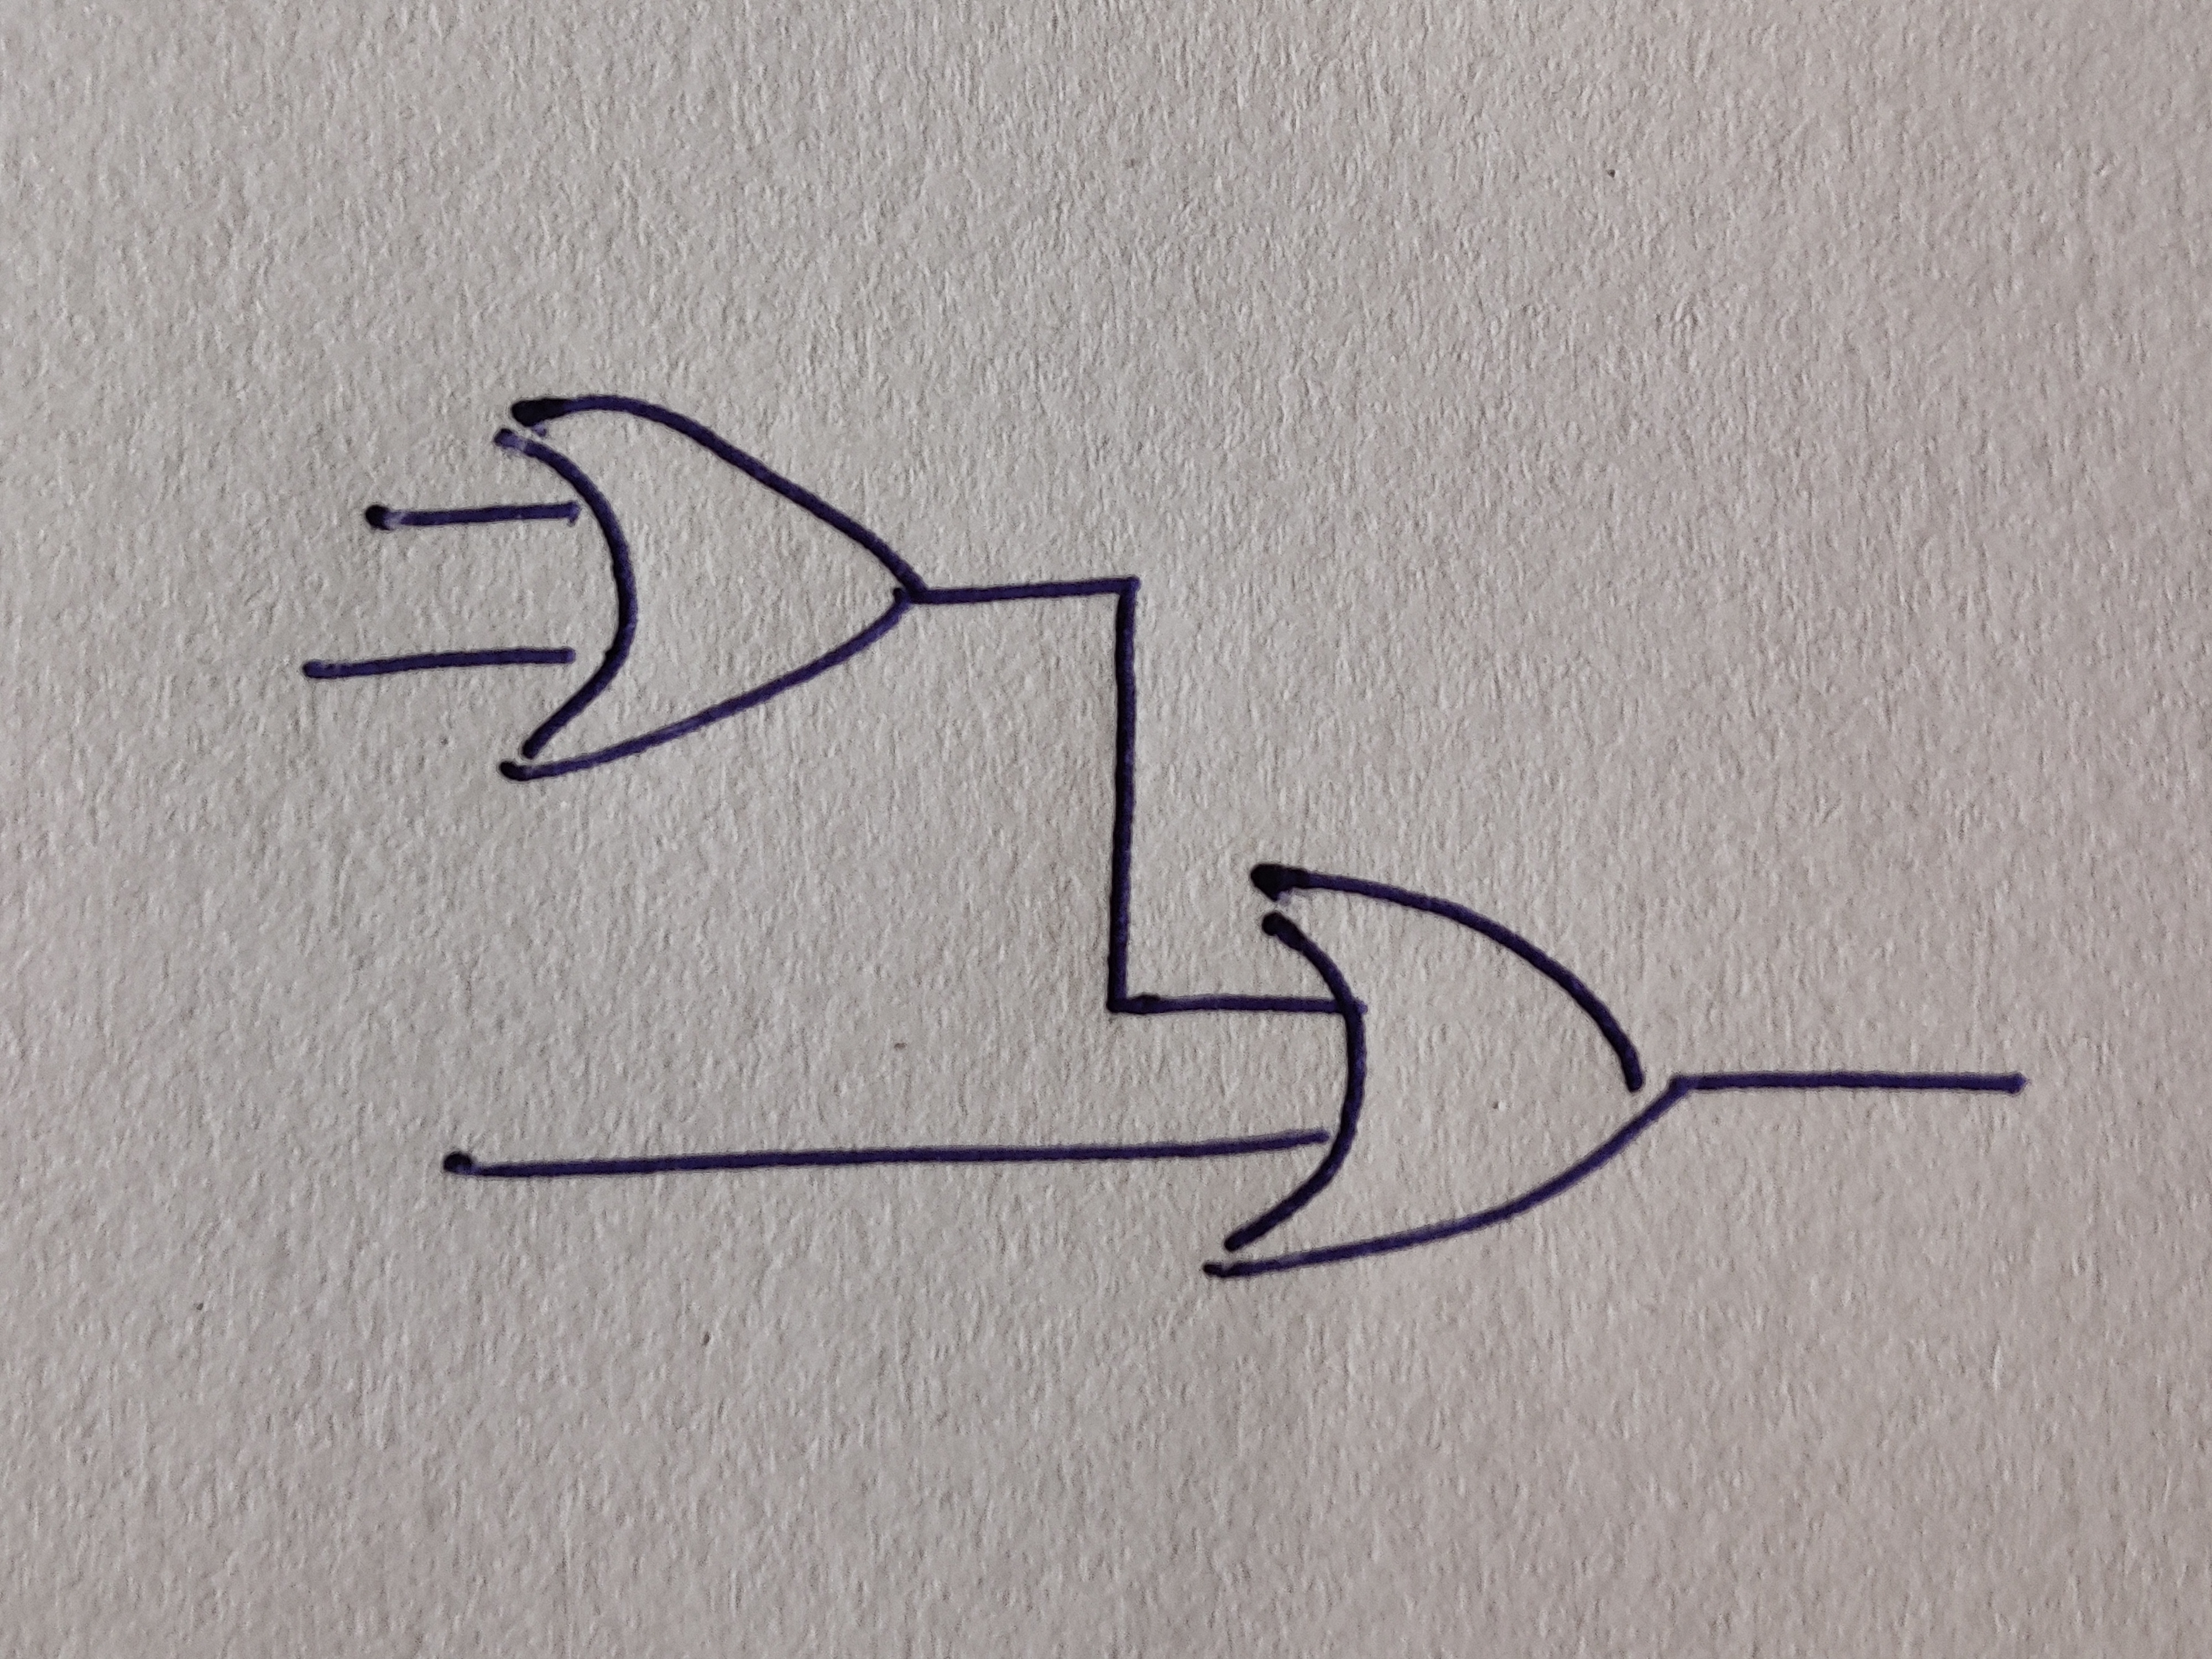or: (1202, 864, 1691, 1277), (493, 397, 923, 784)
